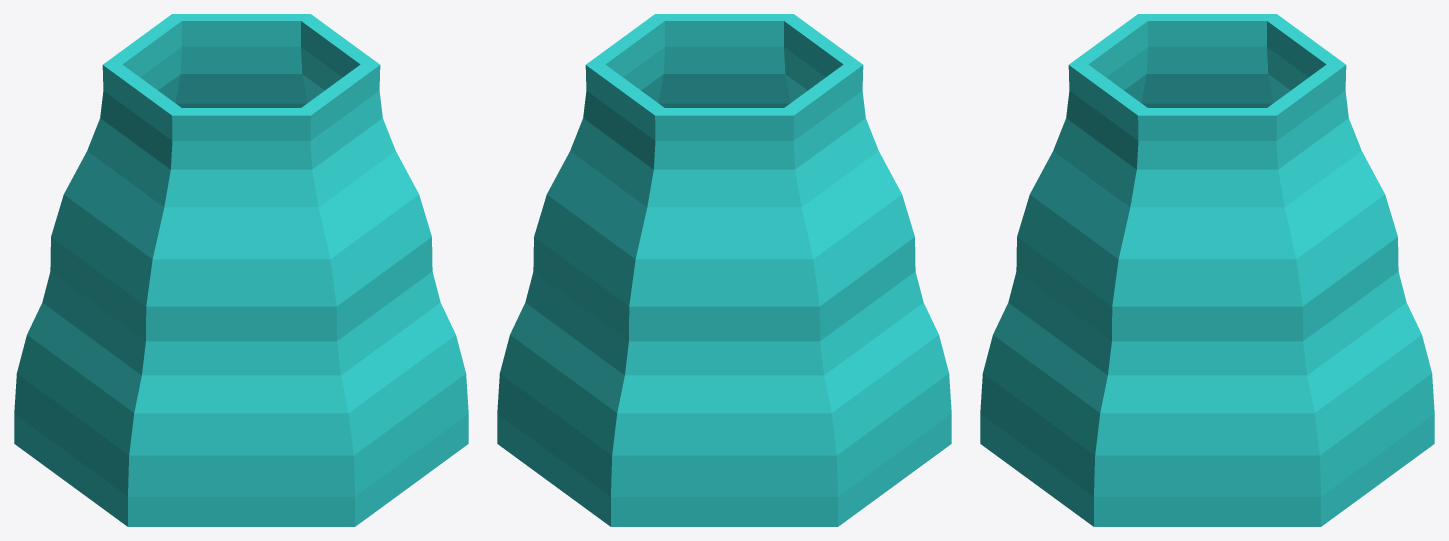
3 renders of one model, left to right at view 1: azimuth 30°, elevation 25°; view 2: azimuth 150°, elevation 25°; view 3: azimuth 270°, elevation 25°, orthographic.
Parts seen in each view (by area): view 1: Circle; view 2: Circle; view 3: Circle.
Part boxes in pixels (x1,y1,x2,y2): Circle: (14, 14, 468, 526); Circle: (497, 14, 951, 526); Circle: (980, 14, 1434, 526).
Bounding box in the file's own units: 199 × 212 × 230.
